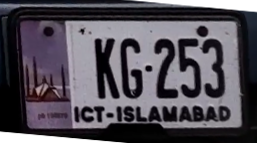2: (152, 37, 179, 100)
3: (199, 37, 228, 99)
5: (177, 36, 203, 100)
G: (118, 36, 146, 100)
K: (92, 37, 121, 100)
